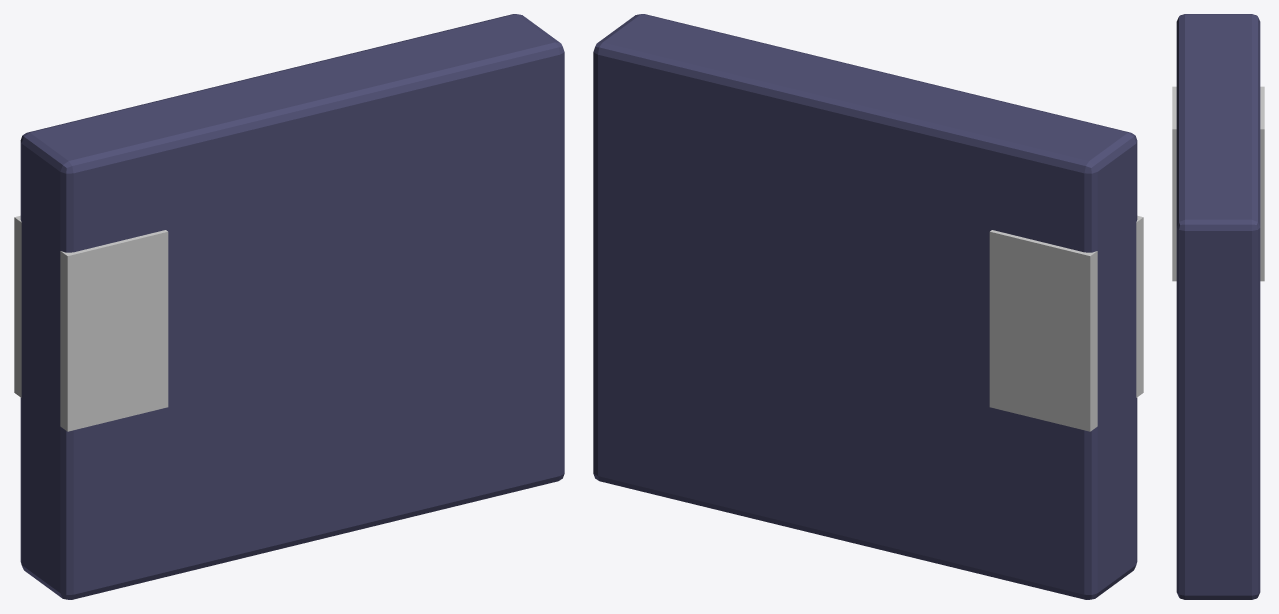
Rendered from Binder_PersonnelLogs.fbx.
The picture shows the model from 3 angles, left to right: view 1: azimuth 30°, elevation 25°; view 2: azimuth 150°, elevation 25°; view 3: azimuth 270°, elevation 25°; orthographic projection. The views are drawn at different scales.
Parts seen in each view (by area): view 1: Binder_PersonnelLogs; view 2: Binder_PersonnelLogs; view 3: Binder_PersonnelLogs.
Boxes of the visible parts, x1,y1,x2,y2 form: Binder_PersonnelLogs: (14,14,564,599); Binder_PersonnelLogs: (593,14,1143,599); Binder_PersonnelLogs: (1172,14,1264,599).
Bounding box in the file's own units: 0.3 × 0.25 × 0.055.
